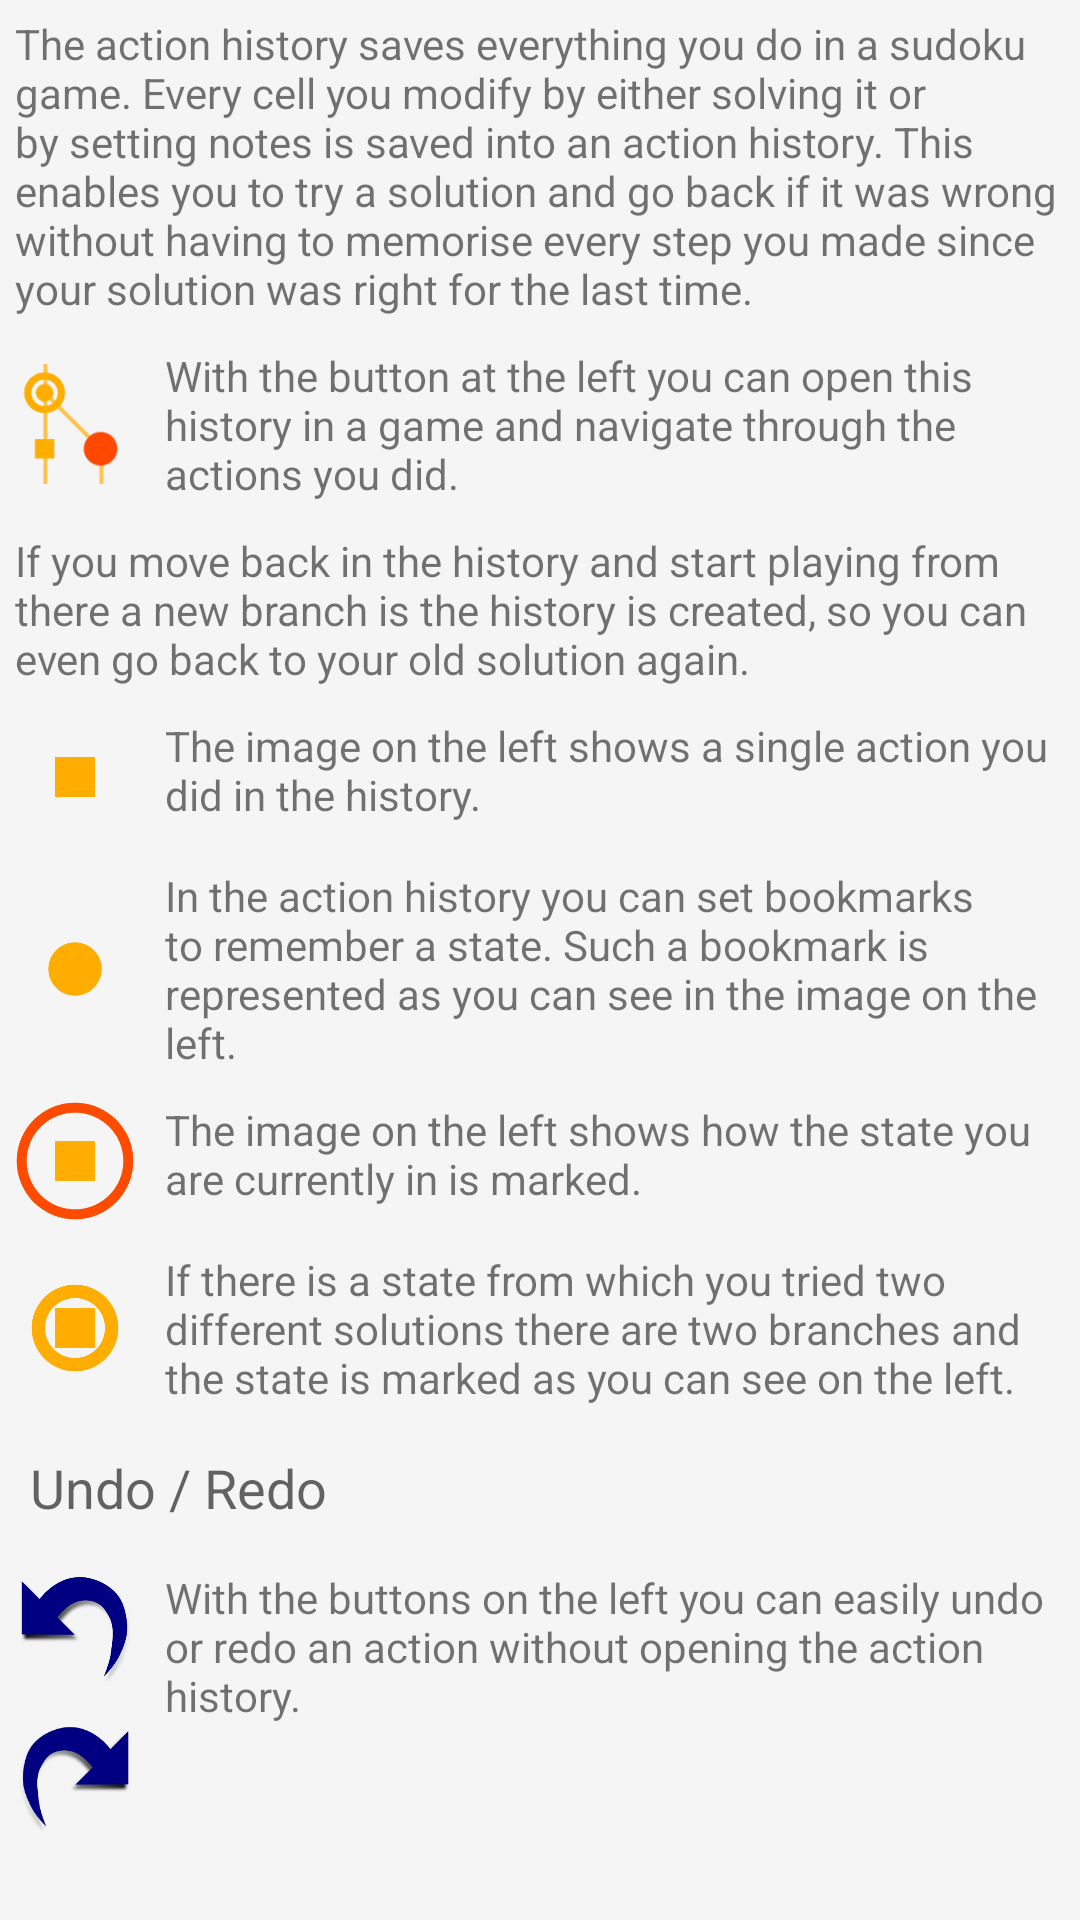

Locate icon controls on the screen. Image size 1080*1920, boxes as (x1, y1, x2, y2).
tree: (23, 364, 118, 484)
tutorial branching: (31, 1284, 119, 1372)
tutorial current state: (16, 1102, 134, 1220)
